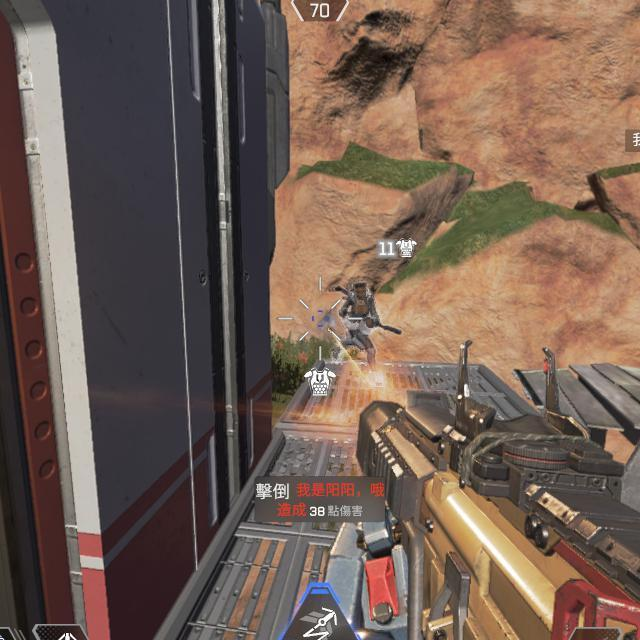avatar: (333, 278, 384, 376)
